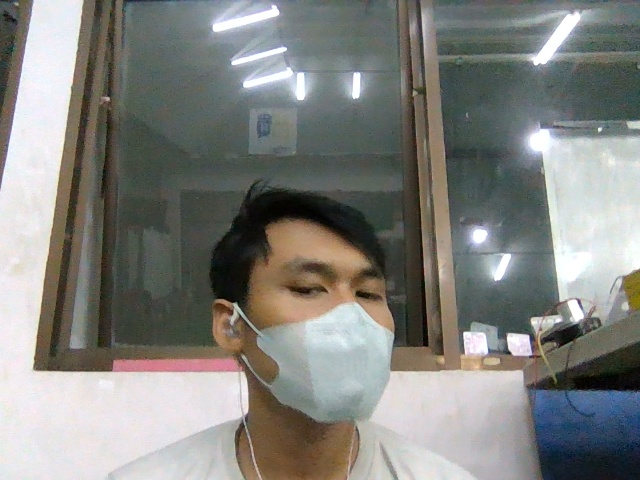mask_on: (246, 303, 393, 424)
